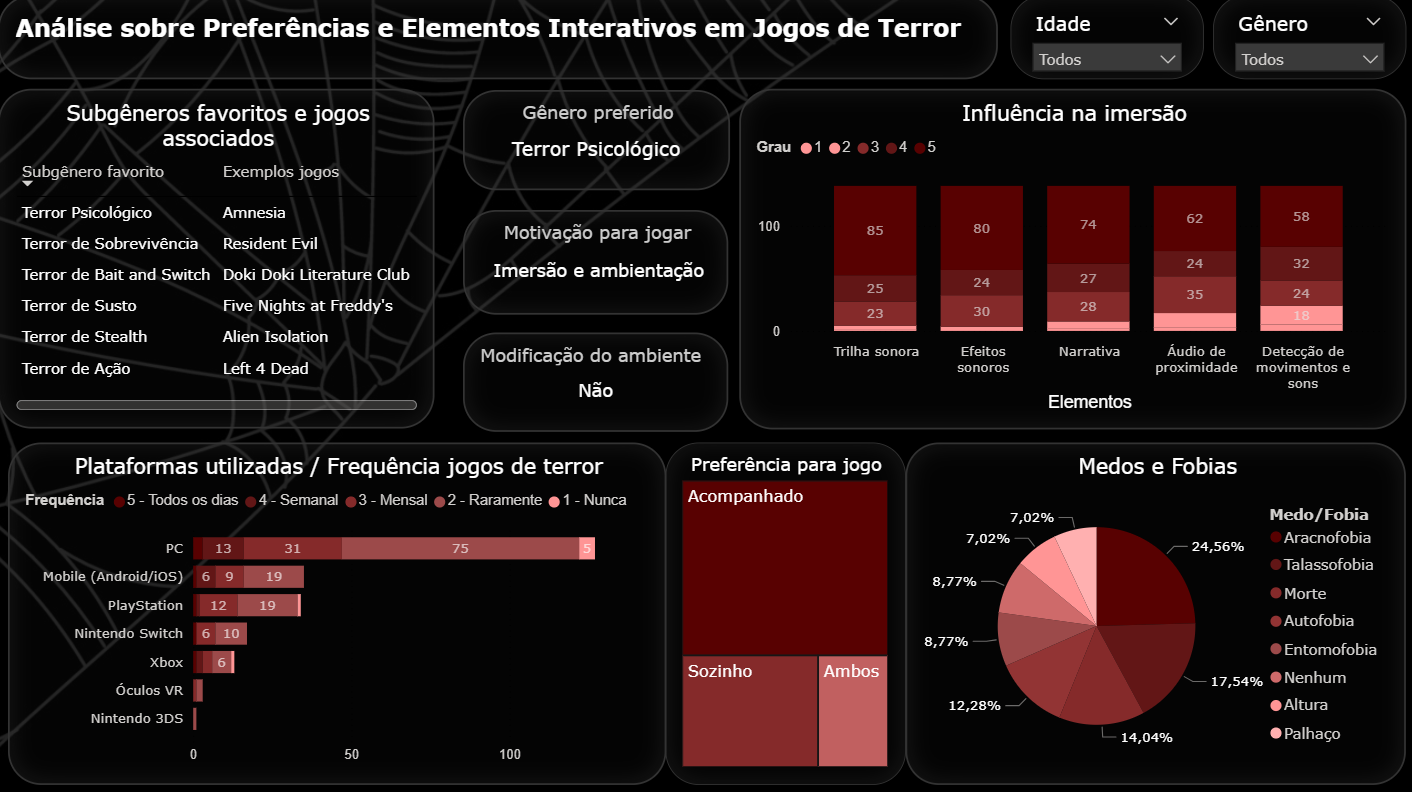

The dashboard page shown, as its layout file describes it:
{"tool":"powerbi","page":{"name":"Análise Preferências x Elementos Interativos","canvas":[1280,720],"ordinal":0},"visuals":[{"type":"columnChart","title":"Influência na imersão","fields":{"Category":["FatoInfluencia.Influencia"],"Y":["CountNonNull(FatoInfluencia.Grau)"],"Series":["FatoInfluencia.Grau"]},"box":[668.8,85,601.2,307.5],"z":1000},{"type":"pieChart","title":"Medos e Fobias","fields":{"Category":["DimUsuario.Medo/Fobia"],"Y":["CountNonNull(DimUsuario.Medo/Fobia)"]},"box":[818.5,403,451.6,308.5],"z":2000},{"type":"barChart","title":"Plataformas utilizadas / Frequência jogos de terror","fields":{"Category":["DimPlataformas.Qual plataforma você costuma jogar?"],"Y":["CountNonNull(DimPlataformas.Qual plataforma você costuma jogar?)"],"Series":["DimPlataformas.FrequenciaOrdenada"]},"box":[8.7,403,593.4,308.5],"z":3000},{"type":"slicer","fields":{"Values":["DimUsuario.Qual o seu gênero?"]},"box":[1095.9,0,174.2,75.9],"z":4000},{"type":"card","title":"Gênero preferido","fields":{"Values":["DimGenerosPreferidos.SubgeneroMaisFrequente"]},"box":[419.6,85.9,240.5,90.8],"z":5000},{"type":"card","title":"Motivação para jogar","fields":{"Values":["DimMotivoJogo.MotivacaoMaisFrequente"]},"box":[419.6,193.9,239.3,94.5],"z":6000},{"type":"tableEx","title":"Subgêneros favoritos e jogos associados","fields":{"Values":["SubgenerosResumo.Quais são os seus subgêneros de terror favoritos?","SubgenerosResumo.Exemplos jogo de terror"]},"box":[0,85,393.8,306.2],"z":7000},{"type":"card","title":"Modificação do ambiente","fields":{"Values":["DimUsuario.AlteraAmbienteMaisFrequente"]},"box":[419.6,304.3,239.3,89.6],"z":8000},{"type":"textbox","box":[0,0,901.9,75.9],"z":9000},{"type":"treemap","title":"Preferência para jogo","fields":{"Group":["DimUsuario.Companhia"],"Values":["CountNonNull(DimUsuario.Companhia)"]},"box":[602.1,403,216.4,308.5],"z":10000},{"type":"slicer","fields":{"Values":["DimUsuario.Idade"]},"box":[913.1,0,174.2,75.9],"z":11000}]}

Visuals, with their boxes in screenshot pixels (x1, y1, x2, y2), scaled from the page's 1280x720 canvas onto the 1412x792 screenshot:
"Influência na imersão" columnChart: bbox=[738, 94, 1401, 432]
"Medos e Fobias" pieChart: bbox=[903, 443, 1401, 783]
"Plataformas utilizadas / Frequência jogos de terror" barChart: bbox=[10, 443, 664, 783]
slicer - DimUsuario.Qual o seu gênero?: bbox=[1209, 0, 1401, 83]
"Gênero preferido" card: bbox=[463, 94, 728, 194]
"Motivação para jogar" card: bbox=[463, 213, 727, 317]
"Subgêneros favoritos e jogos associados" tableEx: bbox=[0, 94, 434, 430]
"Modificação do ambiente" card: bbox=[463, 335, 727, 433]
textbox: bbox=[0, 0, 995, 83]
"Preferência para jogo" treemap: bbox=[664, 443, 903, 783]
slicer - DimUsuario.Idade: bbox=[1007, 0, 1199, 83]
